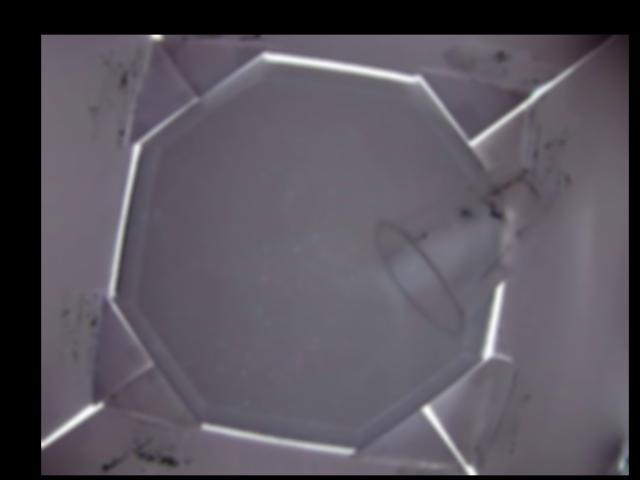Cup: (386, 158, 550, 330)
